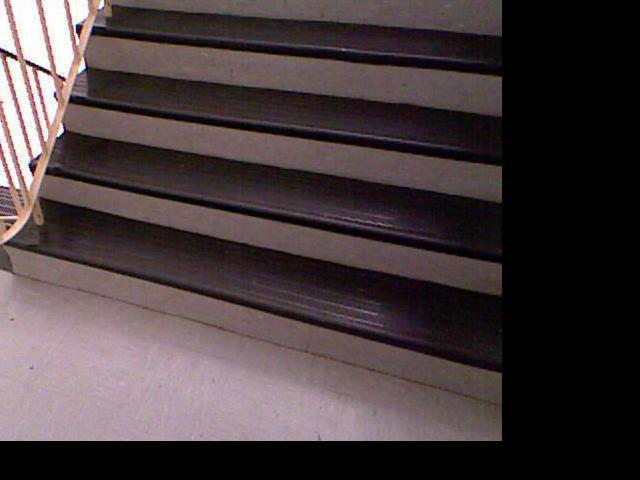Escaleras: (8, 0, 490, 366), (0, 169, 57, 287)
